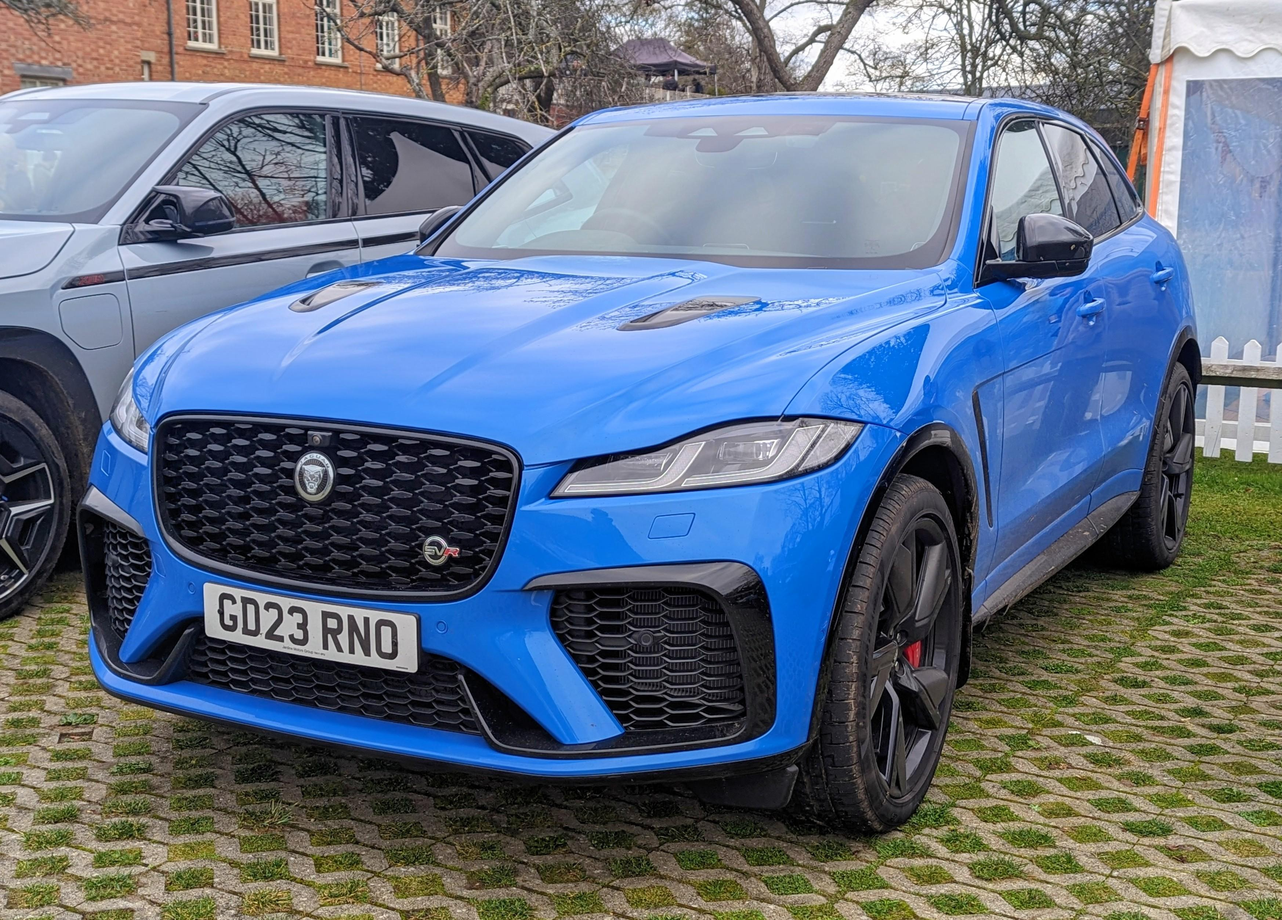other: (106, 83, 1196, 828)
